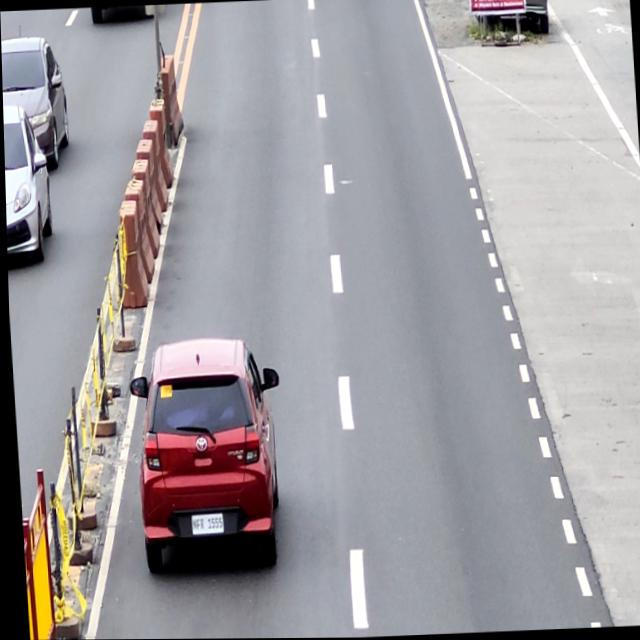Car: (125, 335, 287, 574)
License-Plate: (186, 513, 222, 534)
